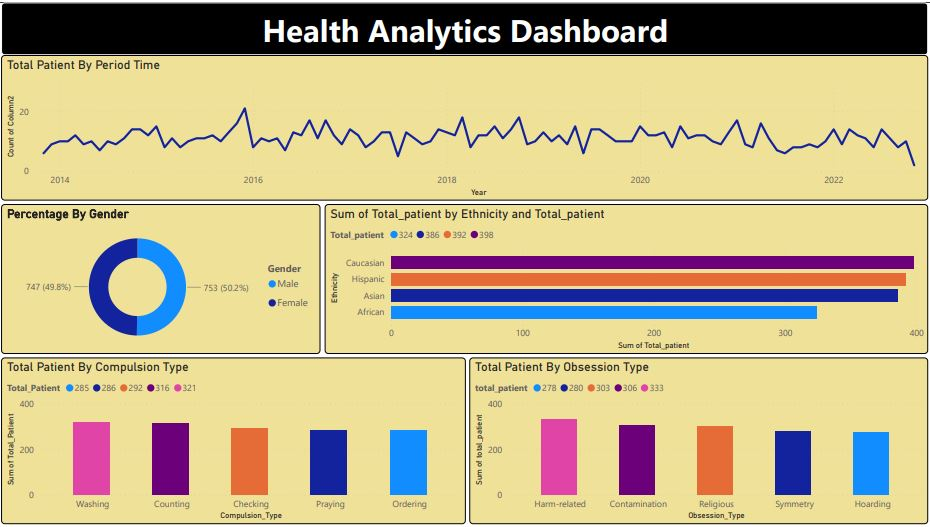

The page's visual inventory and layout, read from the dashboard file:
{"tool":"powerbi","page":{"name":"Page 1","canvas":[1280,720],"ordinal":0},"visuals":[{"type":"textbox","box":[5,0,1269.3,72.1],"z":0},{"type":"lineChart","title":"Total Patient By Period Time","fields":{"Y":["CountNonNull(Period Patient month.Column2)"],"Category":["Period Patient month.Column1.Variation.Date Hierarchy.Year","Period Patient month.Column1.Variation.Date Hierarchy.Month"]},"box":[5,72.1,1269.3,198.6],"z":1},{"type":"donutChart","title":"Percentage By Gender","fields":{"Category":["Gender.Column1"],"Y":["Sum(Gender.Column2)"],"Series":["Gender.Column3"]},"box":[5,275.7,437.1,205.7],"z":2},{"type":"barChart","fields":{"Category":["Ethnicity.Column1"],"Y":["Sum(Ethnicity.Total_patient)"],"Series":["Ethnicity.Total_patient"]},"box":[447.9,275.7,826.4,205.7],"z":3},{"type":"columnChart","title":"Total Patient By Compulsion Type","fields":{"Category":["Comp_type.Column1"],"Y":["Sum(Comp_type.Column2)"],"Series":["Comp_type.Column2"]},"box":[5,486.4,635.7,227.9],"z":4},{"type":"columnChart","title":"Total Patient By Obsession Type","fields":{"Category":["obs_type.Column1"],"Y":["Sum(obs_type.Column2)"],"Series":["obs_type.Column2"]},"box":[646.4,486.4,627.9,227.9],"z":5}]}

Visuals, with their boxes in screenshot pixels (x1, y1, x2, y2), scaled from the page's 1280x720 canvas onto the 930x527 screenshot:
textbox: <box>4,0,926,53</box>
"Total Patient By Period Time" lineChart: <box>4,53,926,198</box>
"Percentage By Gender" donutChart: <box>4,202,321,352</box>
barChart - Ethnicity.Column1 x Sum(Ethnicity.Total_patient): <box>325,202,926,352</box>
"Total Patient By Compulsion Type" columnChart: <box>4,356,466,523</box>
"Total Patient By Obsession Type" columnChart: <box>470,356,926,523</box>
